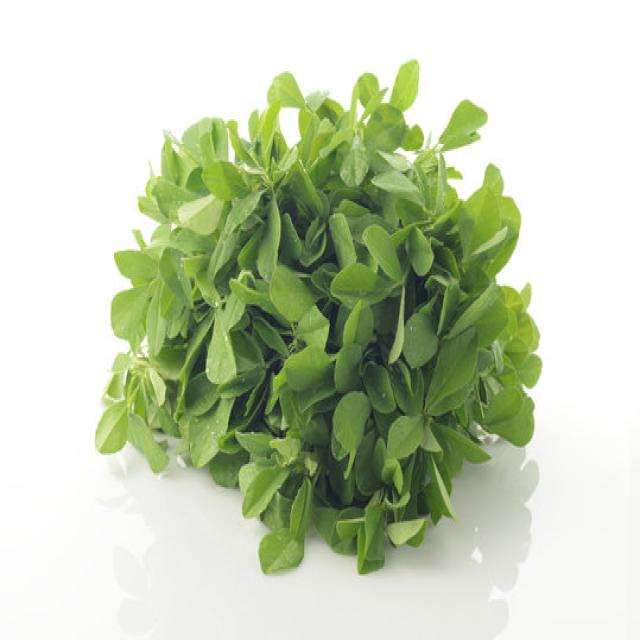Fenugreek: (94, 57, 542, 576)
